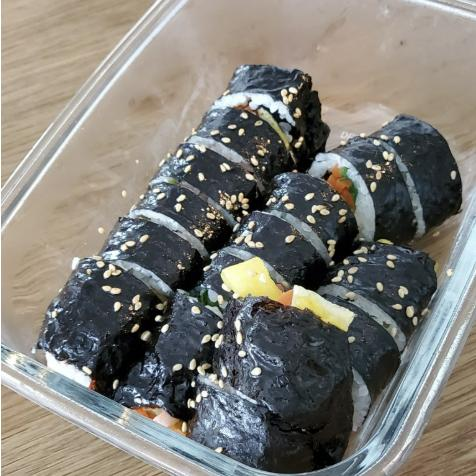Lunch Box: (1, 0, 475, 475)
